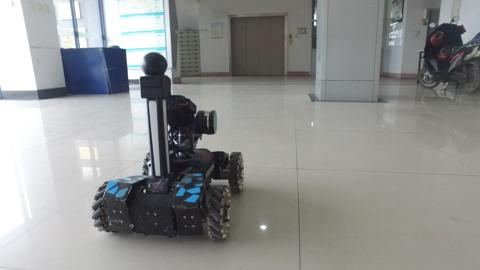chariot: (80, 45, 257, 250)
